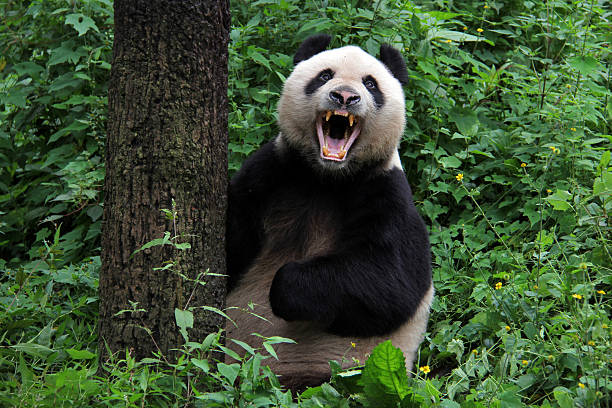panda: (274, 23, 420, 191)
